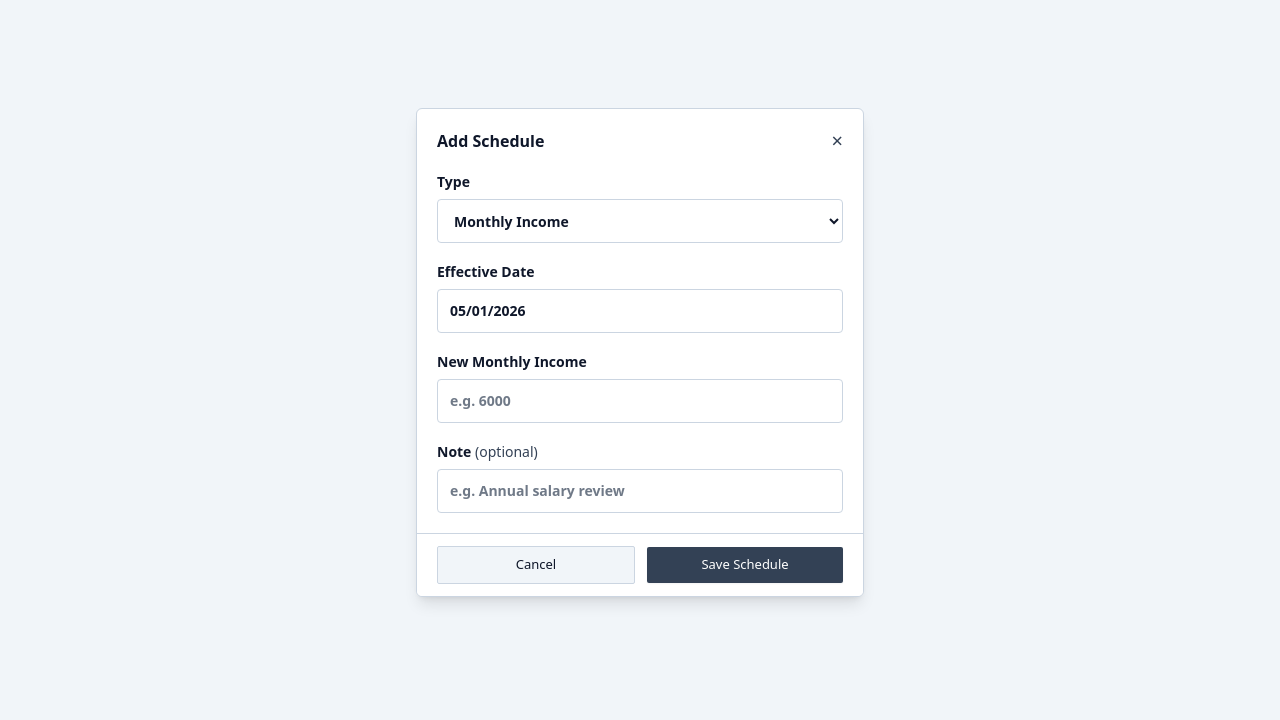
it: ScheduleModal › shows expense fields (date, payee, category, description, amount) when type is expense
This screenshot has width=1280, height=720.
Step 1. Select "Expense" in the dropdown → (640, 221), box [437,199,843,243]
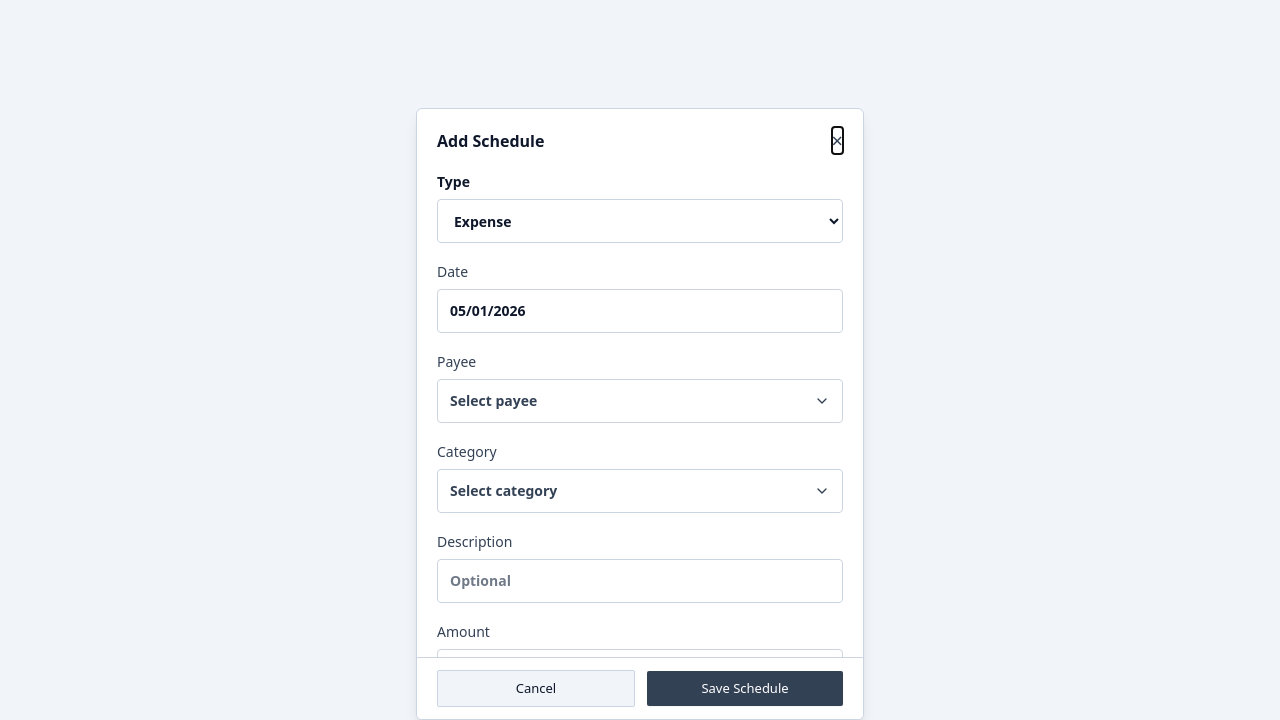
Check: the text "Payee" is shown, box [437,352,476,371]
Check: the text "Category" is shown, box [437,442,497,461]
Check: the text "Description" is shown, box [437,532,512,551]
